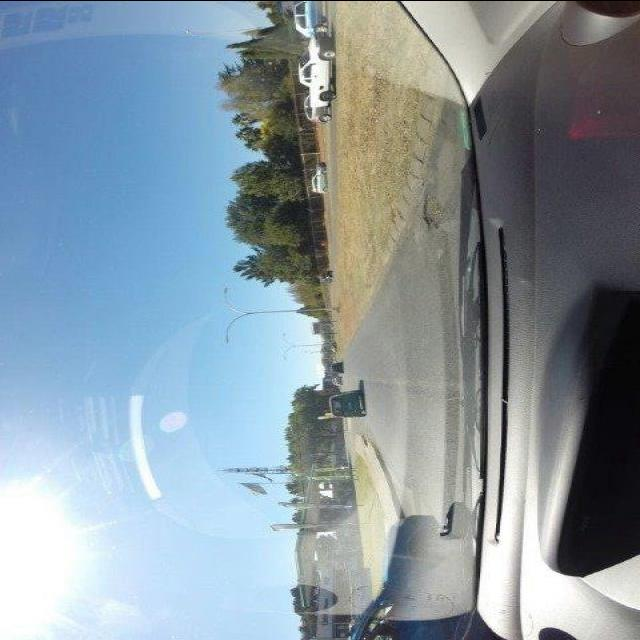lubang: (414, 191, 450, 235)
